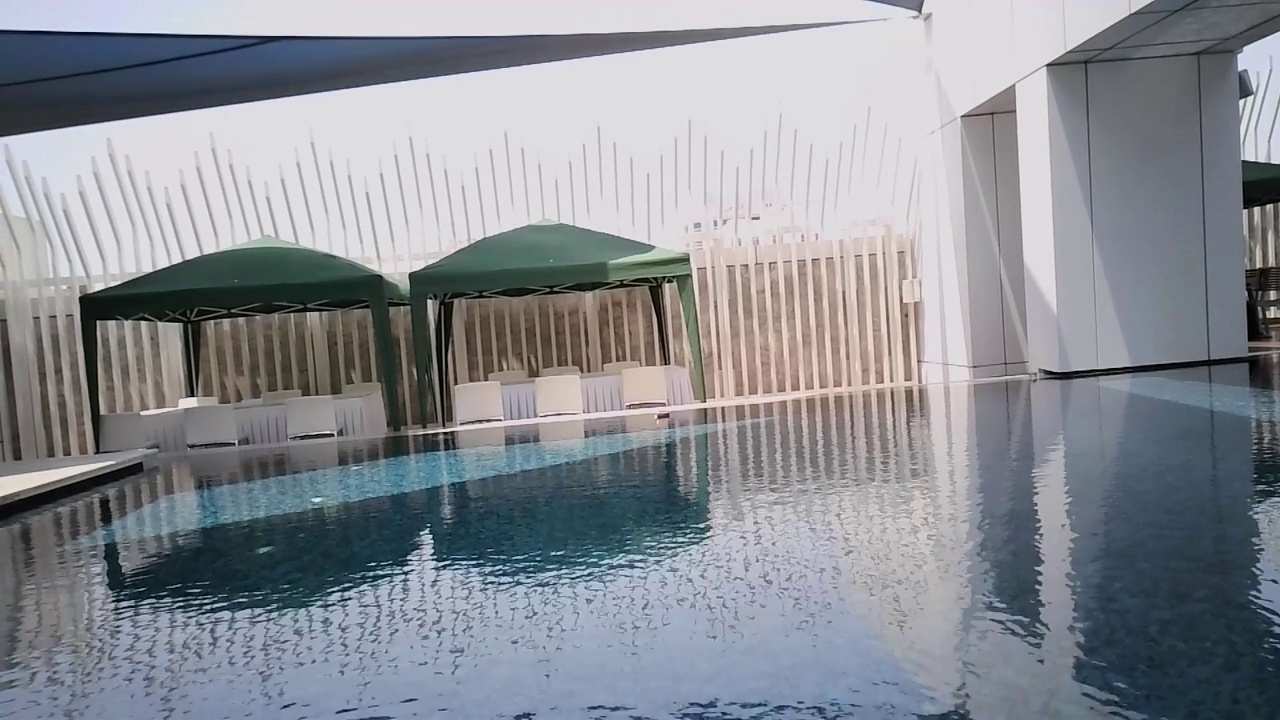debris: (652, 409, 672, 423), (1025, 369, 1042, 385)
